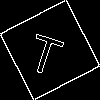T: (25, 25, 68, 77)
